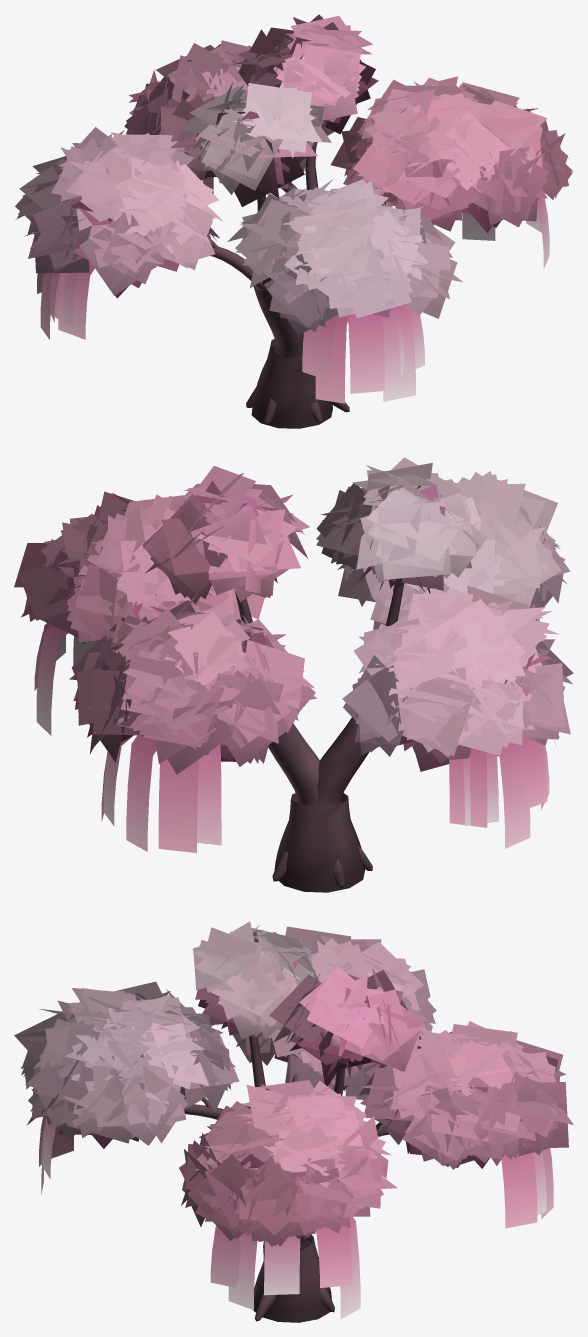
The model's file is tree-village-sakura-v2.glb.
The picture shows the model from 3 angles, top to bottom: view 1: azimuth 30°, elevation 25°; view 2: azimuth 150°, elevation 25°; view 3: azimuth 270°, elevation 25°; orthographic projection. The views are drawn at different scales.
Visible parts, largest first — view 1: cards_sakura, bark; view 2: cards_sakura, bark; view 3: cards_sakura, bark.
Boxes of the visible parts, x1,y1,x2,y2 form: cards_sakura: (15,14,573,403); bark: (208,145,386,428); cards_sakura: (14,457,573,852); bark: (234,584,403,892); cards_sakura: (14,921,573,1319); bark: (184,1034,389,1322).
Bounding box in the file's own units: 9.03 × 6.12 × 8.66.
